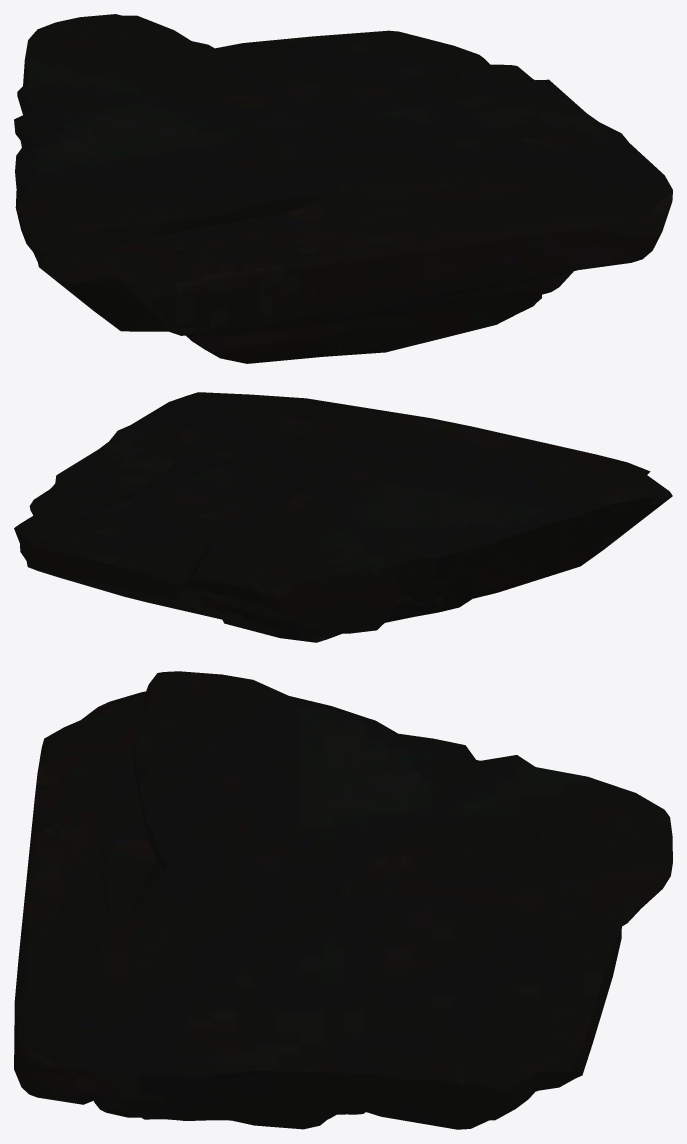
The picture shows the model from 3 angles, top to bottom: view 1: azimuth 30°, elevation 25°; view 2: azimuth 150°, elevation 25°; view 3: azimuth 270°, elevation 25°; orthographic projection. The views are drawn at different scales.
Visible parts, largest first — view 1: SM_HL_Clifftop_03_LOD0; view 2: SM_HL_Clifftop_03_LOD0; view 3: SM_HL_Clifftop_03_LOD0.
Part boxes in pixels (x1,y1,x2,y2): SM_HL_Clifftop_03_LOD0: (14, 14, 672, 363); SM_HL_Clifftop_03_LOD0: (14, 392, 672, 642); SM_HL_Clifftop_03_LOD0: (14, 671, 672, 1129).
Size of the model in its own units: 7.84 by 2.23 by 6.5.
Materials: 1 (1 with a texture image).
